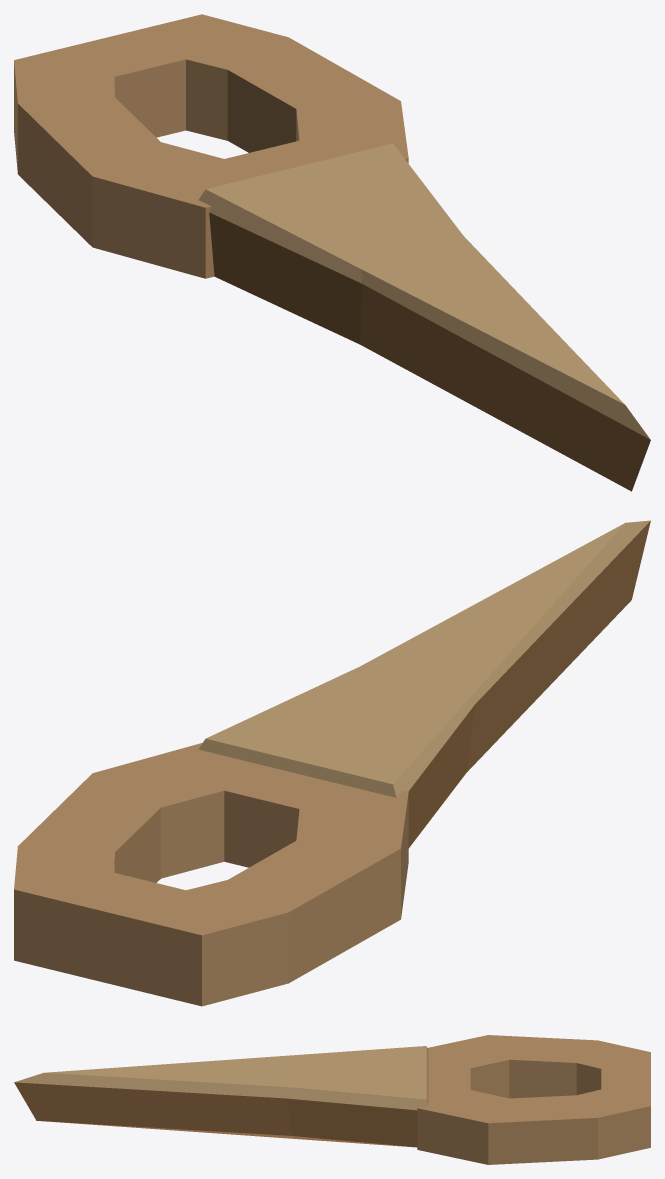
File: oase_11.glb
3 views of the same model, one above another, from view 1: azimuth 30°, elevation 25°; view 2: azimuth 150°, elevation 25°; view 3: azimuth 270°, elevation 25° (orthographic). The views are drawn at different scales.
Visible parts, largest first — view 1: oase_11; view 2: oase_11; view 3: oase_11.
Part boxes in pixels (<box>): oase_11: <box>14,14,650,491</box>; oase_11: <box>14,520,650,1006</box>; oase_11: <box>14,1035,650,1164</box>.
Bounding box in the file's own units: 0.656 × 0.1667 × 2.
